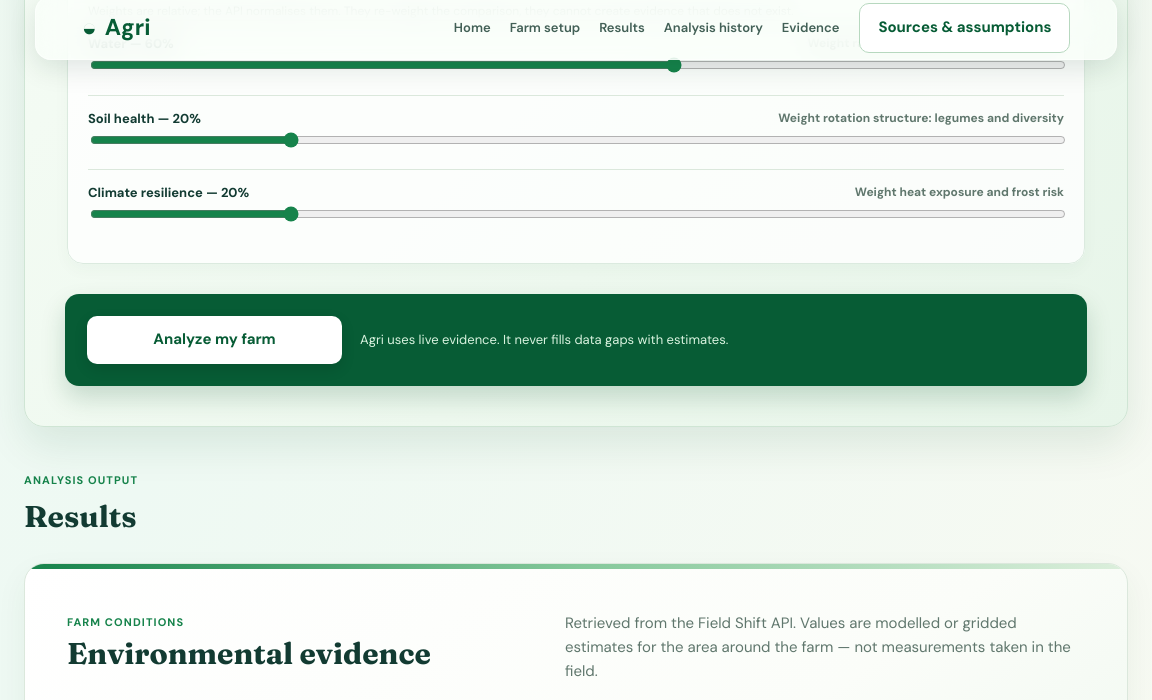
Test: Field Shift application › shows an evidence-specific error while keeping a successful comparison
(page scrolled)
Click the button "Analyze my farm": point(214, 340) [87,316,342,364]
(page scrolled)
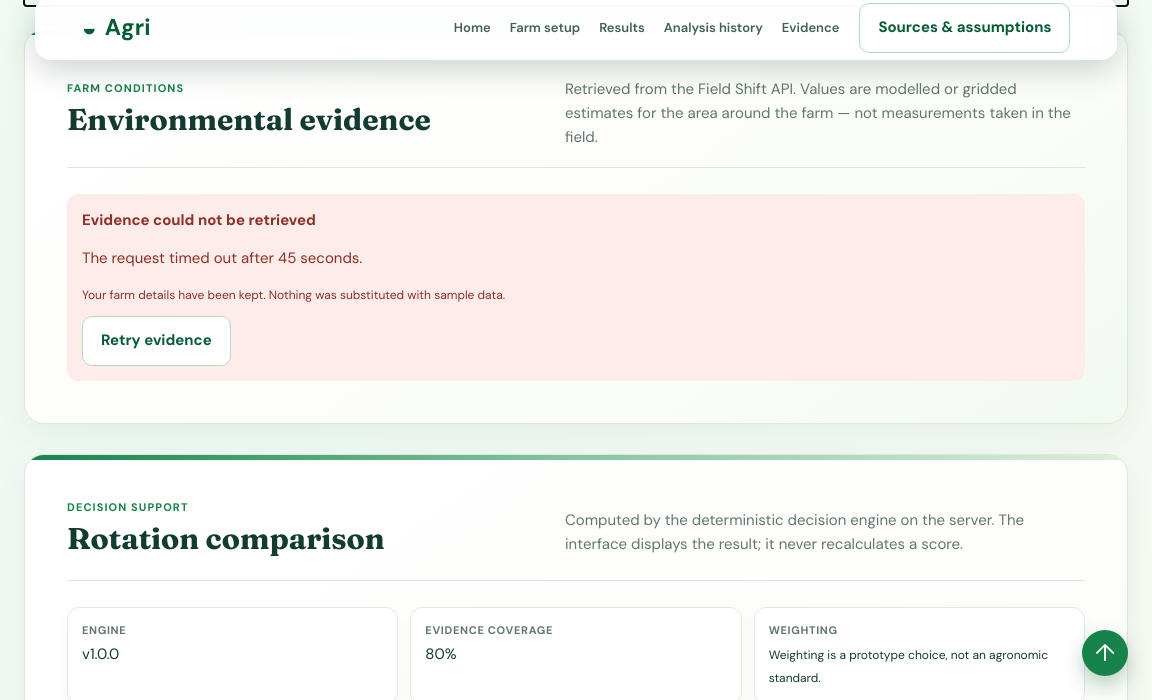
expect the text "Evidence could not be retrieved" is shown: met, box [82,210,316,230]
expect the text "The request timed out after 45 seconds." is shown: met, box [82,248,362,268]
expect the button "Retry evidence" is shown: met, box [82,316,231,366]
